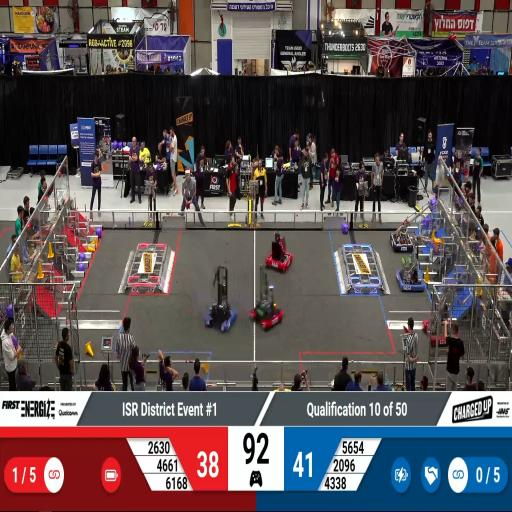robot: (248, 292, 286, 334), (423, 313, 459, 349), (207, 294, 239, 334), (266, 235, 294, 274), (396, 264, 426, 298), (390, 222, 414, 255)
